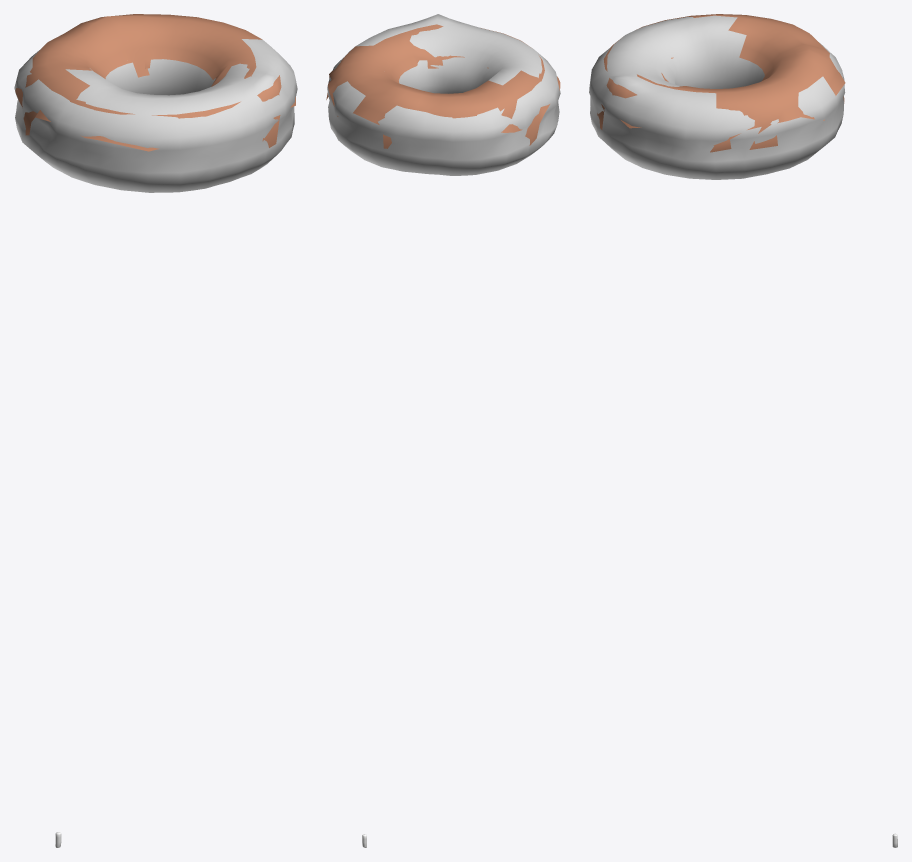
File: donut.glb
3 renders of one model, left to right at view 1: azimuth 30°, elevation 25°; view 2: azimuth 150°, elevation 25°; view 3: azimuth 270°, elevation 25°, orthographic. The views are drawn at different scales.
Visible parts, largest first — view 1: donut, icing; view 2: donut, icing; view 3: donut, icing.
Boxes of the visible parts, box(x1,y1,x2,y2) form: donut: box(14, 39, 297, 192); icing: box(15, 14, 295, 151); donut: box(327, 14, 560, 175); icing: box(326, 24, 560, 148); donut: box(589, 15, 845, 179); icing: box(597, 14, 845, 152).
Size of the model in its own units: 0.1485 by 0.5017 by 0.1758.
